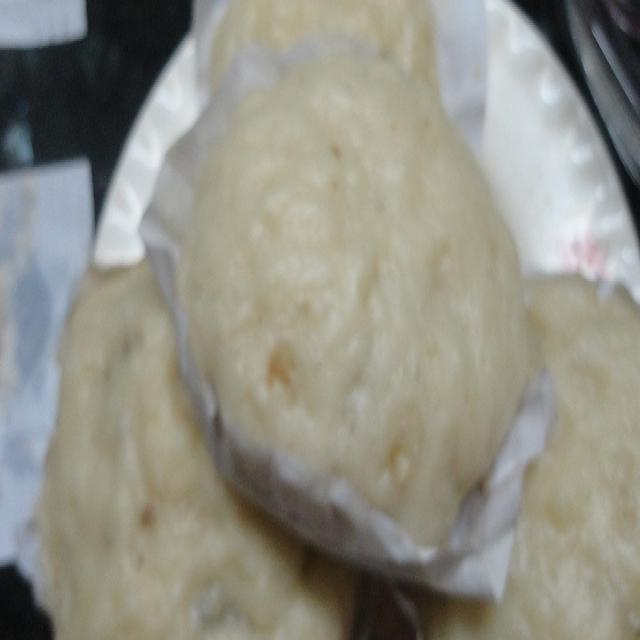带馅早点: (48, 18, 622, 604)
